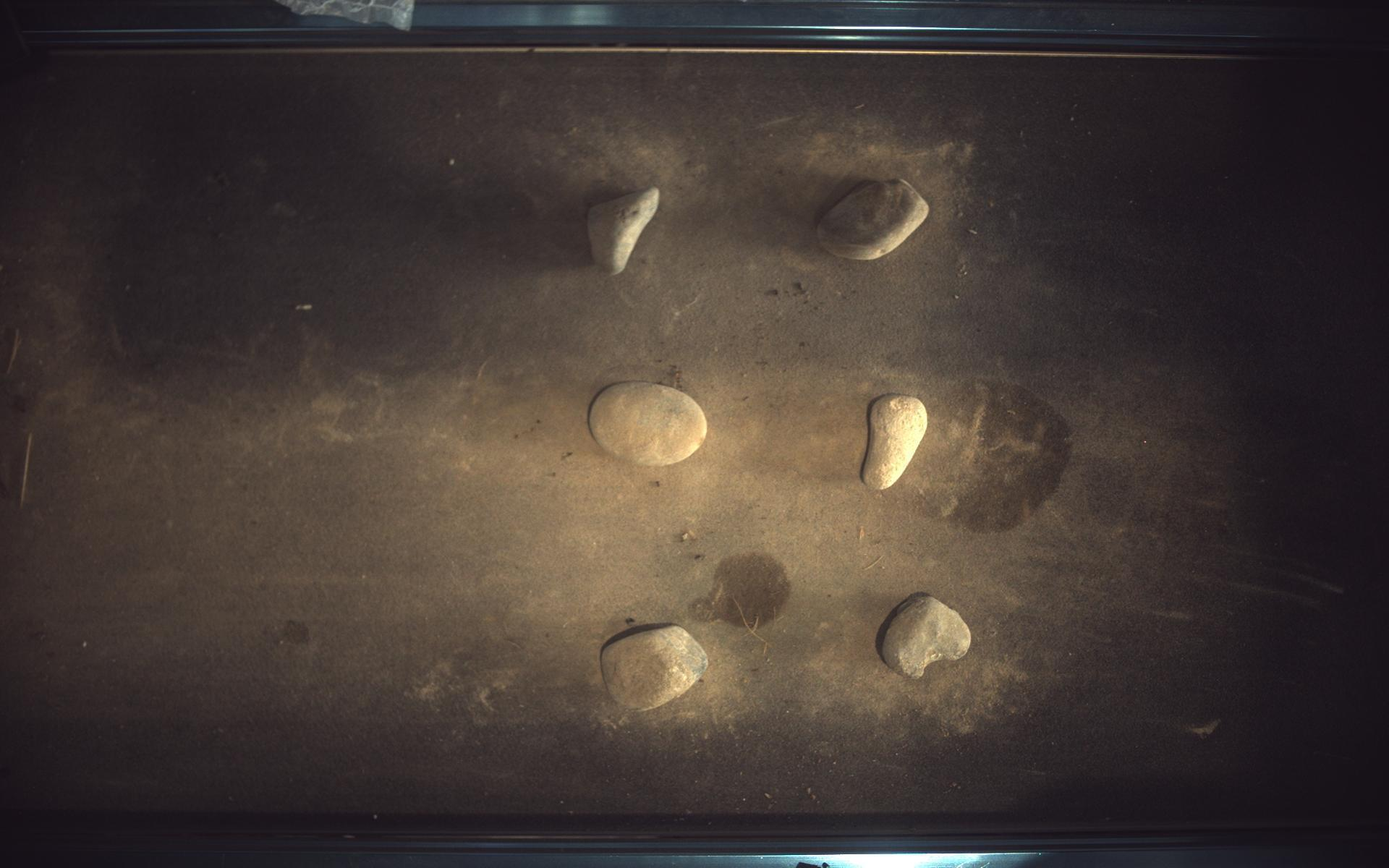stone: (590, 382, 708, 467), (603, 626, 709, 711), (820, 179, 931, 260), (878, 592, 973, 679), (864, 395, 930, 490), (588, 187, 660, 274)
